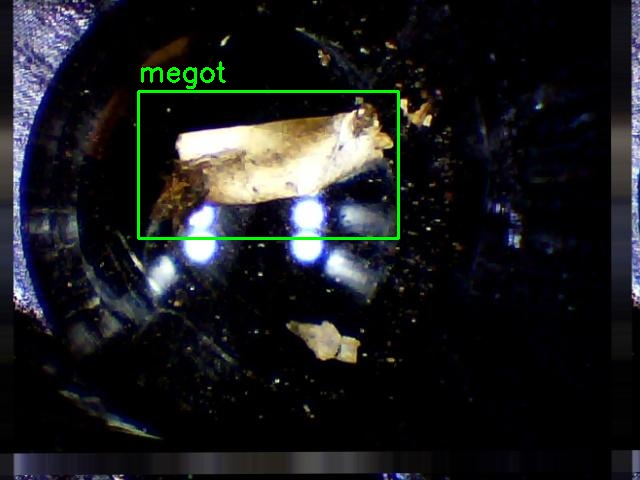megot: (138, 91, 398, 238)
